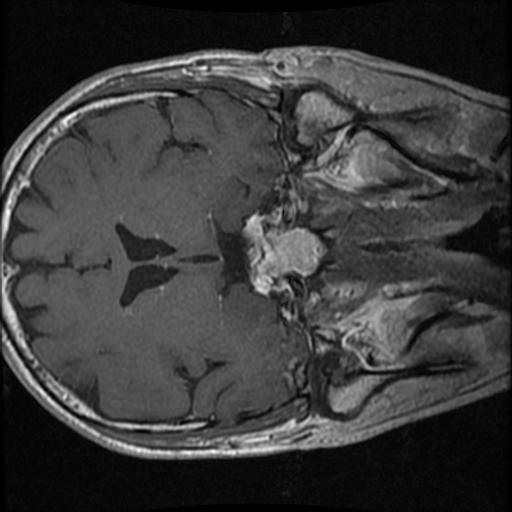pituitary tumour: (243, 216, 263, 281)
